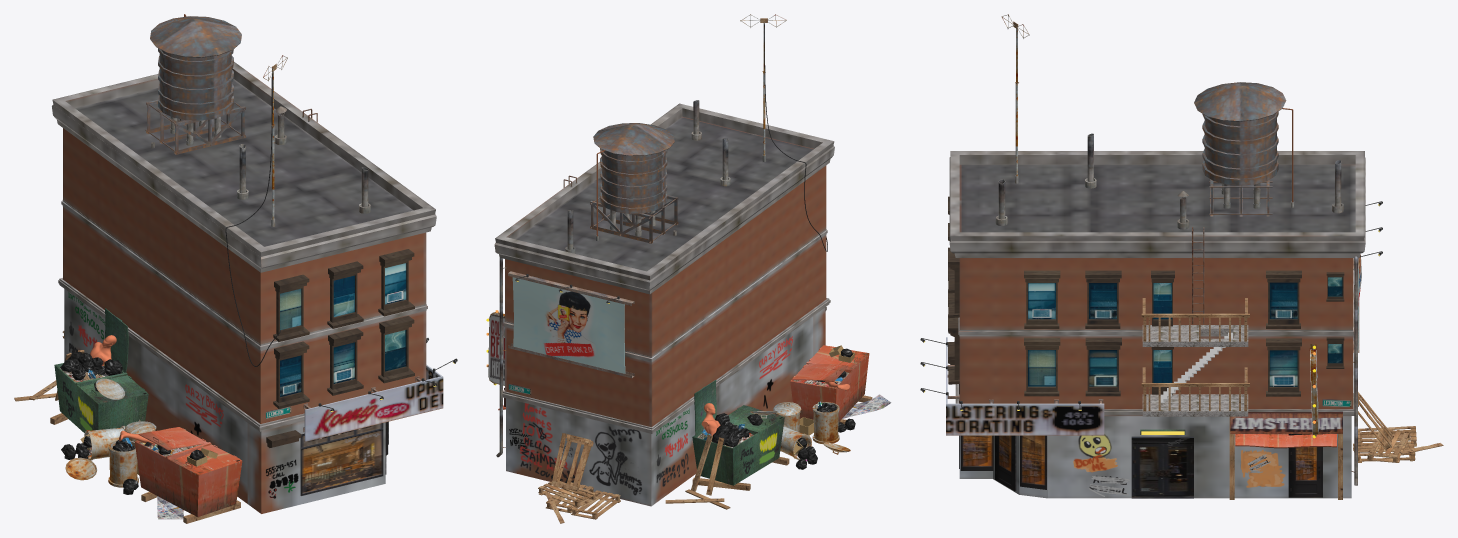
The picture shows the model from 3 angles, left to right: view 1: azimuth 30°, elevation 25°; view 2: azimuth 150°, elevation 25°; view 3: azimuth 270°, elevation 25°; orthographic projection. The views are drawn at different scales.
Parts seen in each view (by area): view 1: 1home_copy, 7vodokachka_copy, 10okna_rama_copy, 27trash_2_copy, 9okna_steklo_copy, 20viveska_mag_copy, 26trash_1_copy, 11vitrina_1_copy, 32vedro_copy, 31trash_copy, 6truba_copy, 34doski_copy (+5 smaller); view 2: 1home_copy, 15viveska_xyz_copy, 7vodokachka_copy, 34doski_copy, 26trash_1_copy, 27trash_2_copy, 32vedro_copy, 6truba_copy, 31trash_copy, graf_10, graf_2, 16for_viveska_xyz_copy (+6 smaller); view 3: 1home_copy, 10okna_rama_copy, 7vodokachka_copy, 9okna_steklo_copy, 20viveska_mag_copy, 14door_home_copy, 5balkon_2_copy, 4balkon_1_copy, 6truba_copy, 34doski_copy, 19viveska_bar_copy, 13door_bar (+8 smaller).
Part boxes in pixels (left/top/right/bottom): 1home_copy: left=52, top=62, right=436, bottom=513; 7vodokachka_copy: left=145, top=16, right=245, bottom=154; 10okna_rama_copy: left=266, top=249, right=414, bottom=447; 27trash_2_copy: left=135, top=427, right=242, bottom=517; 9okna_steklo_copy: left=280, top=263, right=406, bottom=396; 20viveska_mag_copy: left=304, top=364, right=443, bottom=441; 26trash_1_copy: left=54, top=308, right=148, bottom=432; 11vitrina_1_copy: left=300, top=423, right=383, bottom=495; 32vedro_copy: left=65, top=378, right=156, bottom=487; 31trash_copy: left=60, top=351, right=204, bottom=494; 6truba_copy: left=151, top=106, right=370, bottom=226; 34doski_copy: left=14, top=331, right=240, bottom=523; 1home_copy: left=494, top=103, right=834, bottom=506; 15viveska_xyz_copy: left=512, top=277, right=625, bottom=373; 7vodokachka_copy: left=590, top=123, right=678, bottom=243; 34doski_copy: left=538, top=395, right=872, bottom=523; 26trash_1_copy: left=692, top=380, right=784, bottom=485; 27trash_2_copy: left=790, top=345, right=869, bottom=421; 32vedro_copy: left=750, top=402, right=850, bottom=459; 6truba_copy: left=496, top=100, right=765, bottom=457; 31trash_copy: left=711, top=348, right=855, bottom=469; graf_10: left=520, top=403, right=574, bottom=482; graf_2: left=589, top=426, right=641, bottom=495; 16for_viveska_xyz_copy: left=508, top=271, right=634, bottom=378; 1home_copy: left=949, top=151, right=1365, bottom=498; 10okna_rama_copy: left=948, top=196, right=1344, bottom=396; 7vodokachka_copy: left=1194, top=82, right=1286, bottom=216; 9okna_steklo_copy: left=1028, top=277, right=1342, bottom=386; 20viveska_mag_copy: left=946, top=337, right=1104, bottom=435; 14door_home_copy: left=1131, top=436, right=1193, bottom=498; 5balkon_2_copy: left=1141, top=367, right=1249, bottom=416; 4balkon_1_copy: left=1141, top=298, right=1249, bottom=346; 6truba_copy: left=995, top=133, right=1357, bottom=485; 34doski_copy: left=1353, top=392, right=1443, bottom=462; 19viveska_bar_copy: left=1230, top=411, right=1342, bottom=433; 13door_bar: left=1288, top=434, right=1322, bottom=497.
Size of the model in its own units: 458 by 622 by 662.
